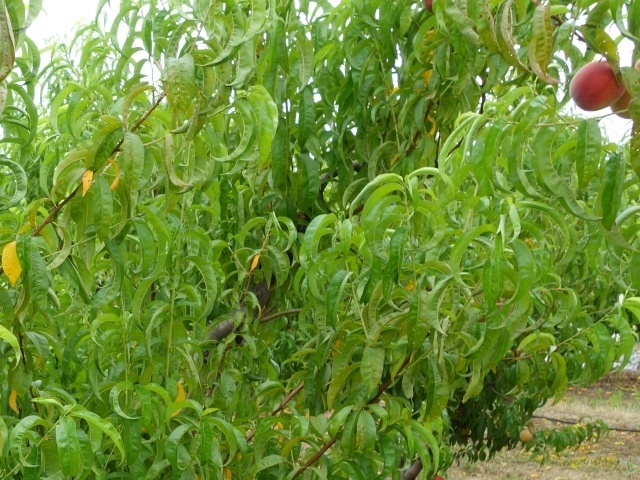peach: (566, 54, 628, 113), (607, 61, 639, 123)
